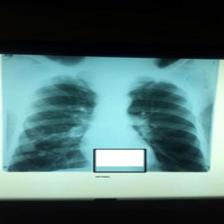tuberculosis: (3, 66, 212, 173)
